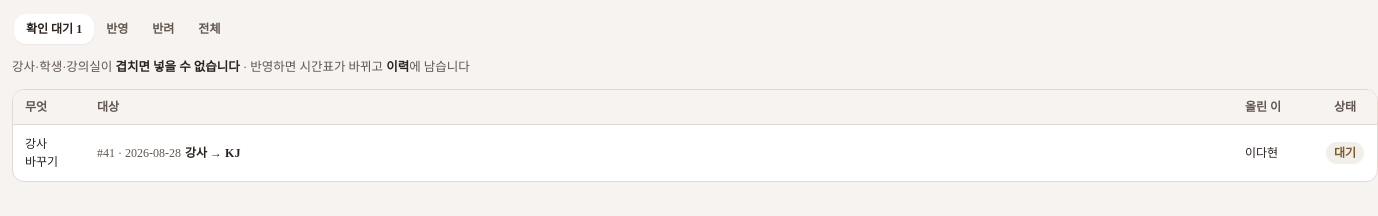
반려 사유는 신청 사유를 덮어쓰지 않는다 — 둘 다 남는다 (v4.18 · D-R13)
The image size is (1378, 216).
Step 1. Click the button "반려" → (163, 29), box x1=140 y1=14 x2=186 y2=44
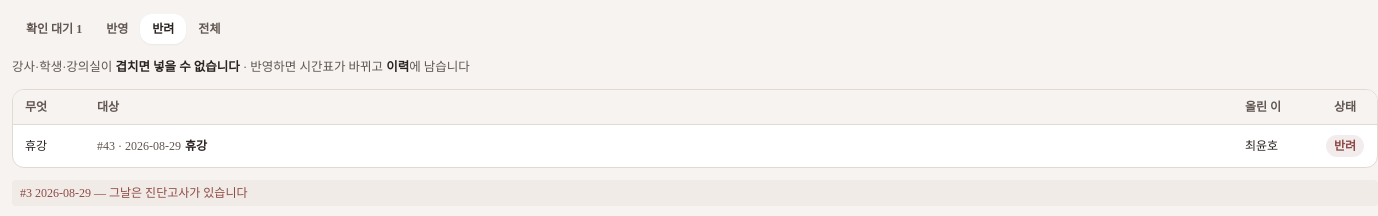
Now the text "그날은 진단고사가 있습니다" is shown, box x1=109 y1=186 x2=248 y2=200
